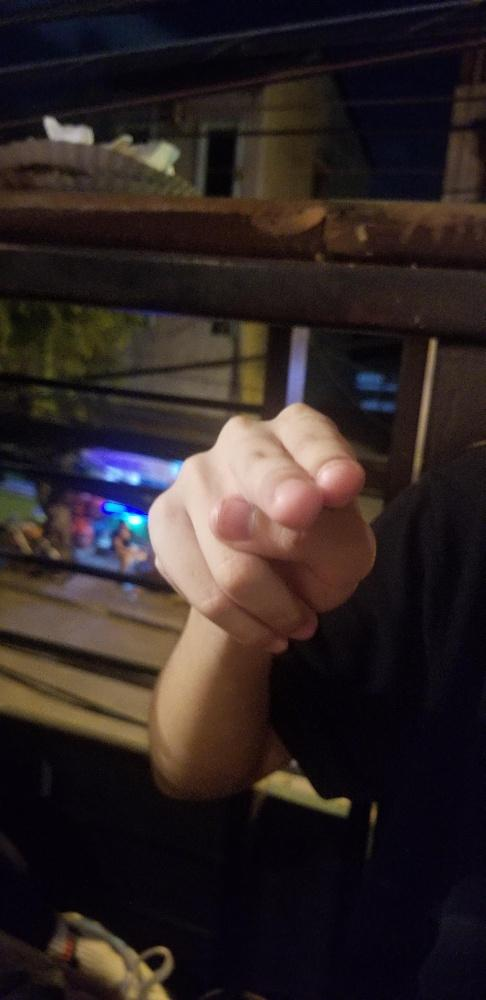n: (146, 398, 378, 661)
